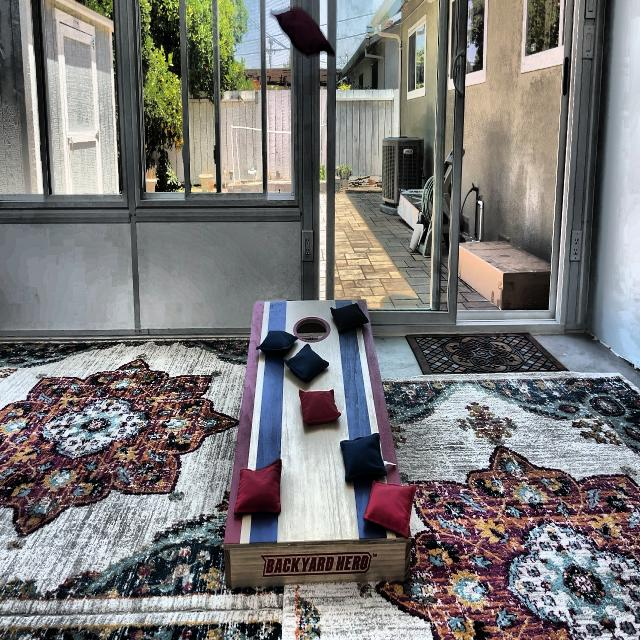blue-bean-bag: (340, 432, 386, 479), (284, 342, 329, 383), (330, 302, 369, 332), (257, 328, 298, 352)
board: (250, 301, 375, 545)
hole: (293, 314, 330, 344)
red-bean-bag: (271, 7, 336, 59), (364, 476, 417, 538), (235, 459, 282, 515), (299, 388, 341, 424)
